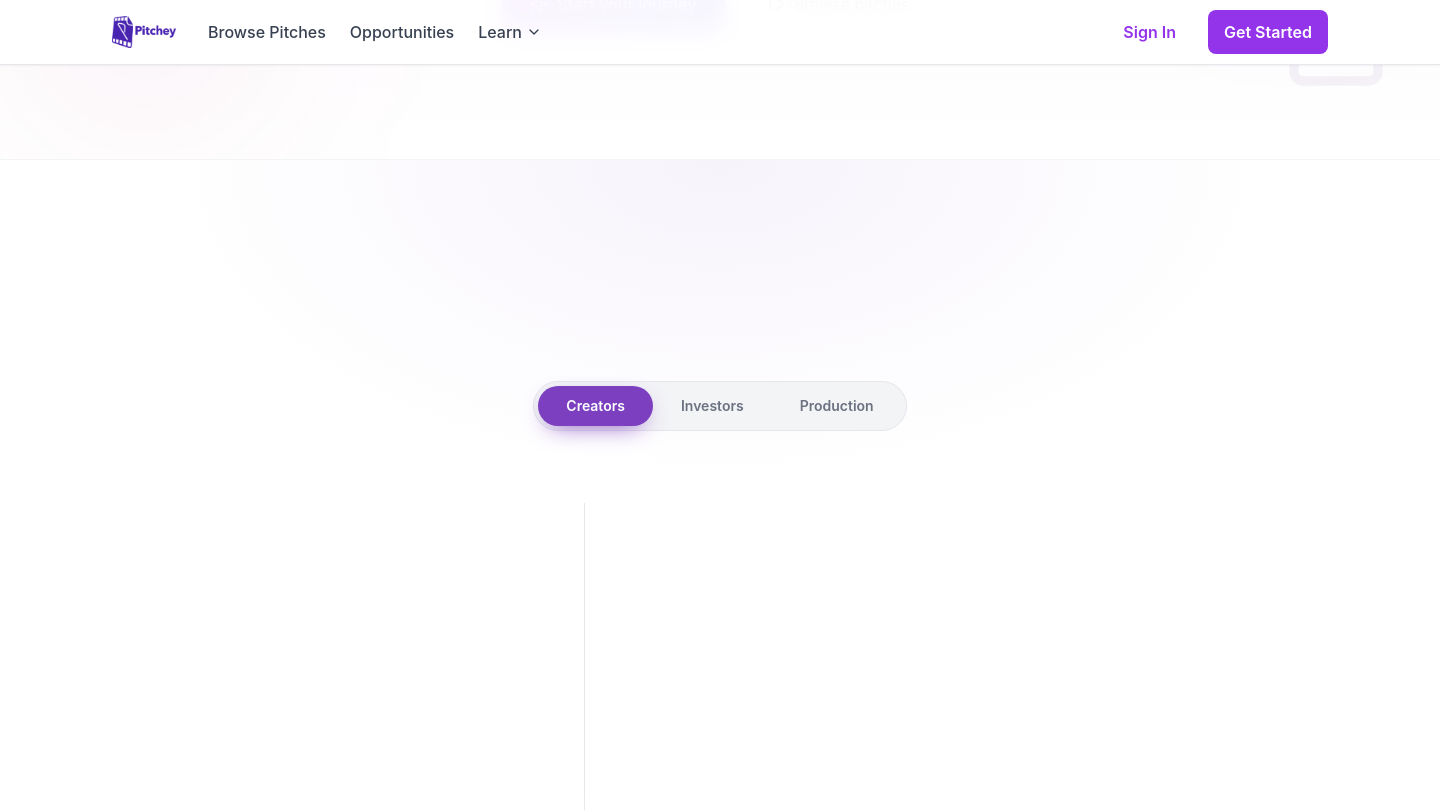
Test: HowItWorks › switches to the Production track when its tab is clicked
(page scrolled)
Click the button "Production": (837, 406) [772,386,902,426]
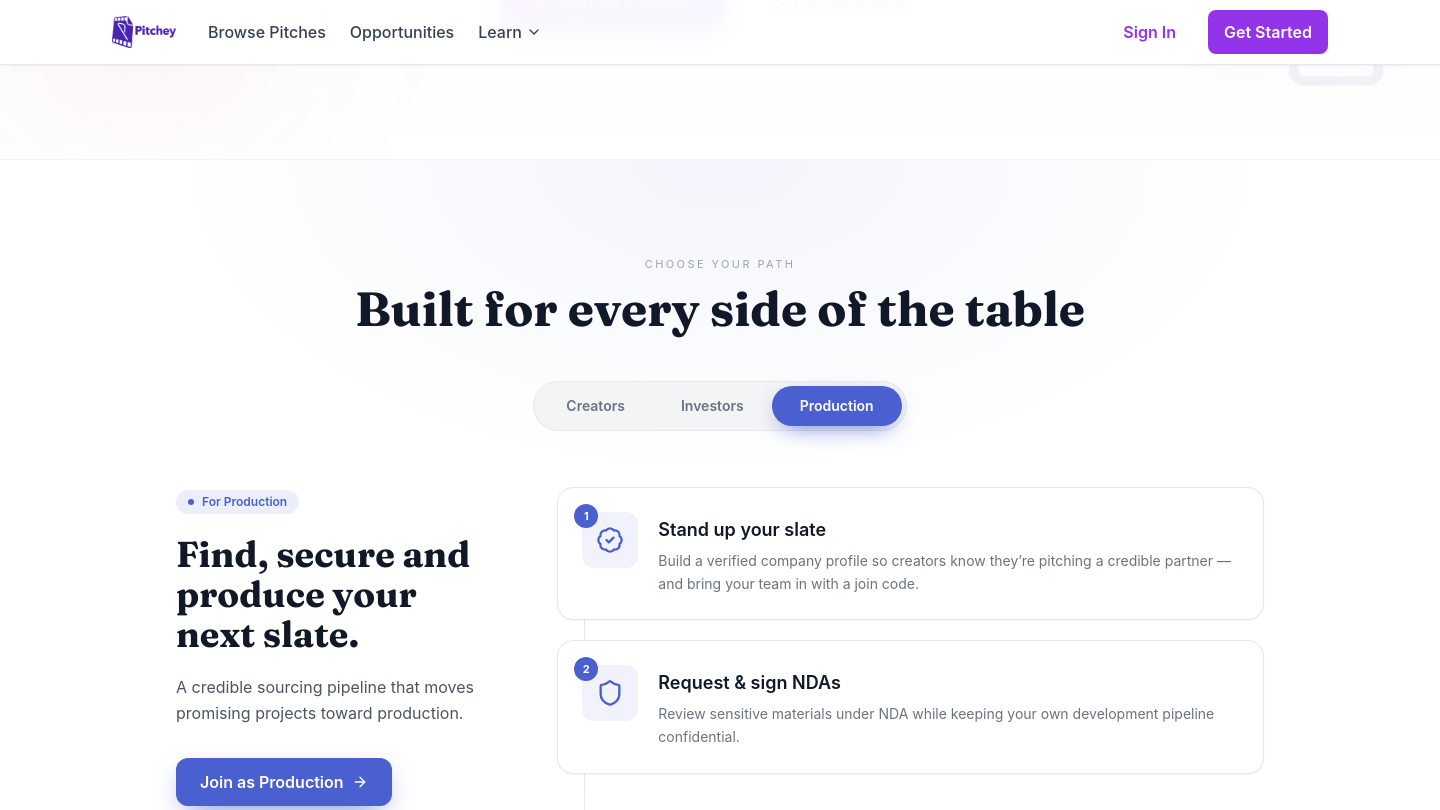
Now the heading "Stand up your slate" is shown, box [658,519,826,540]
